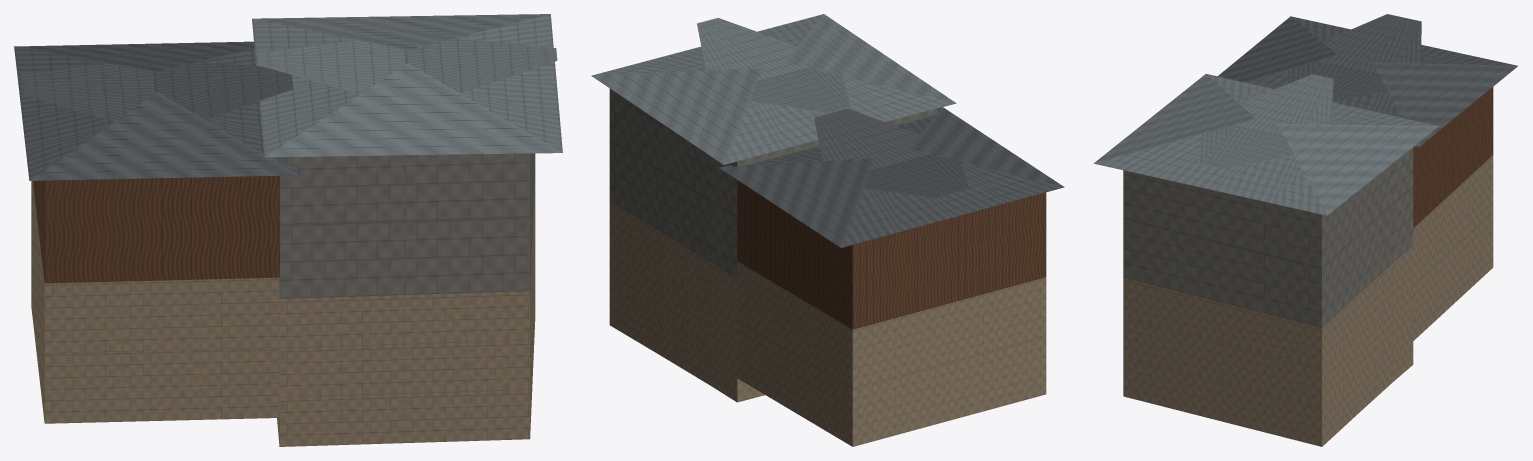
Rendered from bld_c9_38_498.gltf.
3 renders of one model, left to right at view 1: azimuth 30°, elevation 25°; view 2: azimuth 150°, elevation 25°; view 3: azimuth 270°, elevation 25°, orthographic. The views are drawn at different scales.
Parts seen in each view (by area): view 1: bld_c9_38_498; view 2: bld_c9_38_498; view 3: bld_c9_38_498.
Part boxes in pixels (left/top/right/bottom): bld_c9_38_498: left=14, top=14, right=562, bottom=446; bld_c9_38_498: left=591, top=14, right=1064, bottom=446; bld_c9_38_498: left=1094, top=14, right=1517, bottom=446.
Bounding box in the file's own units: 19.6 × 11.2 × 16.48.
Materials: 5 (5 with a texture image).
